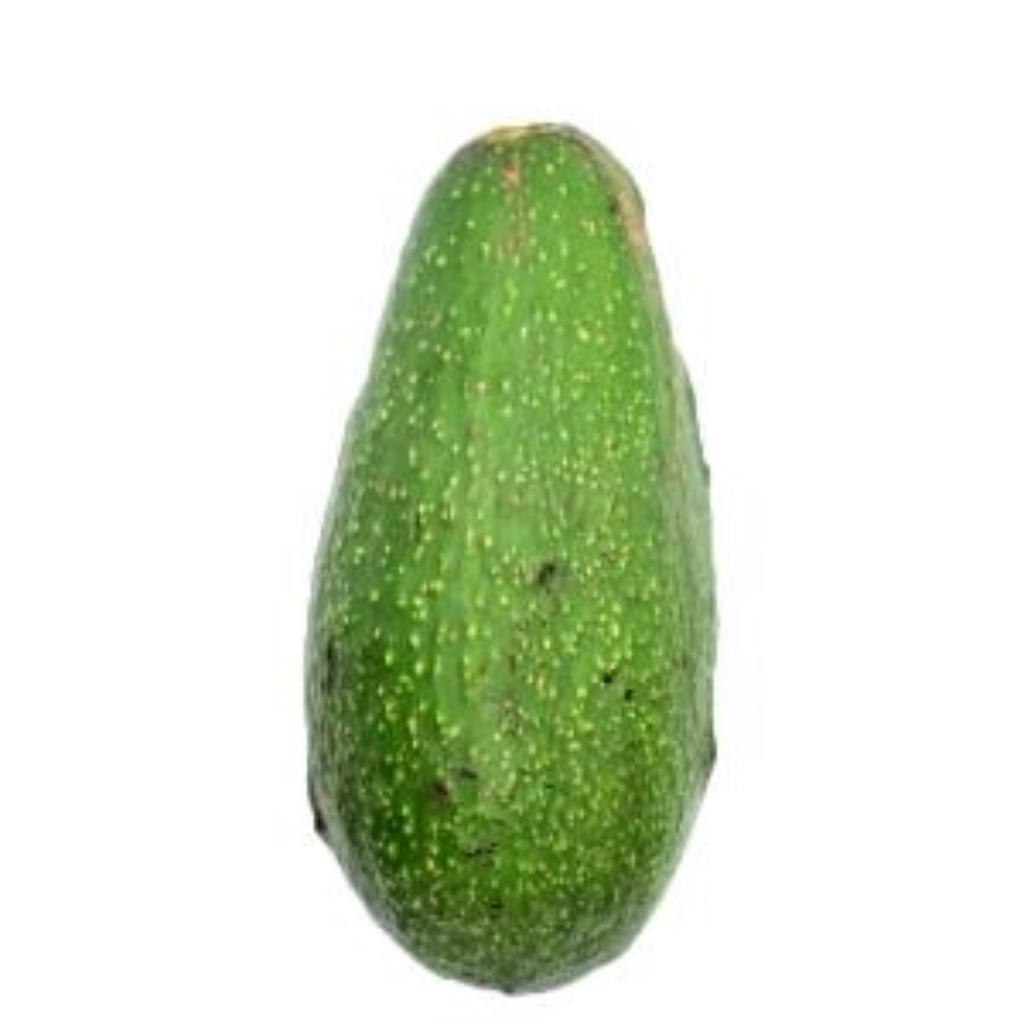cercospora_spot: (294, 108, 740, 998)
